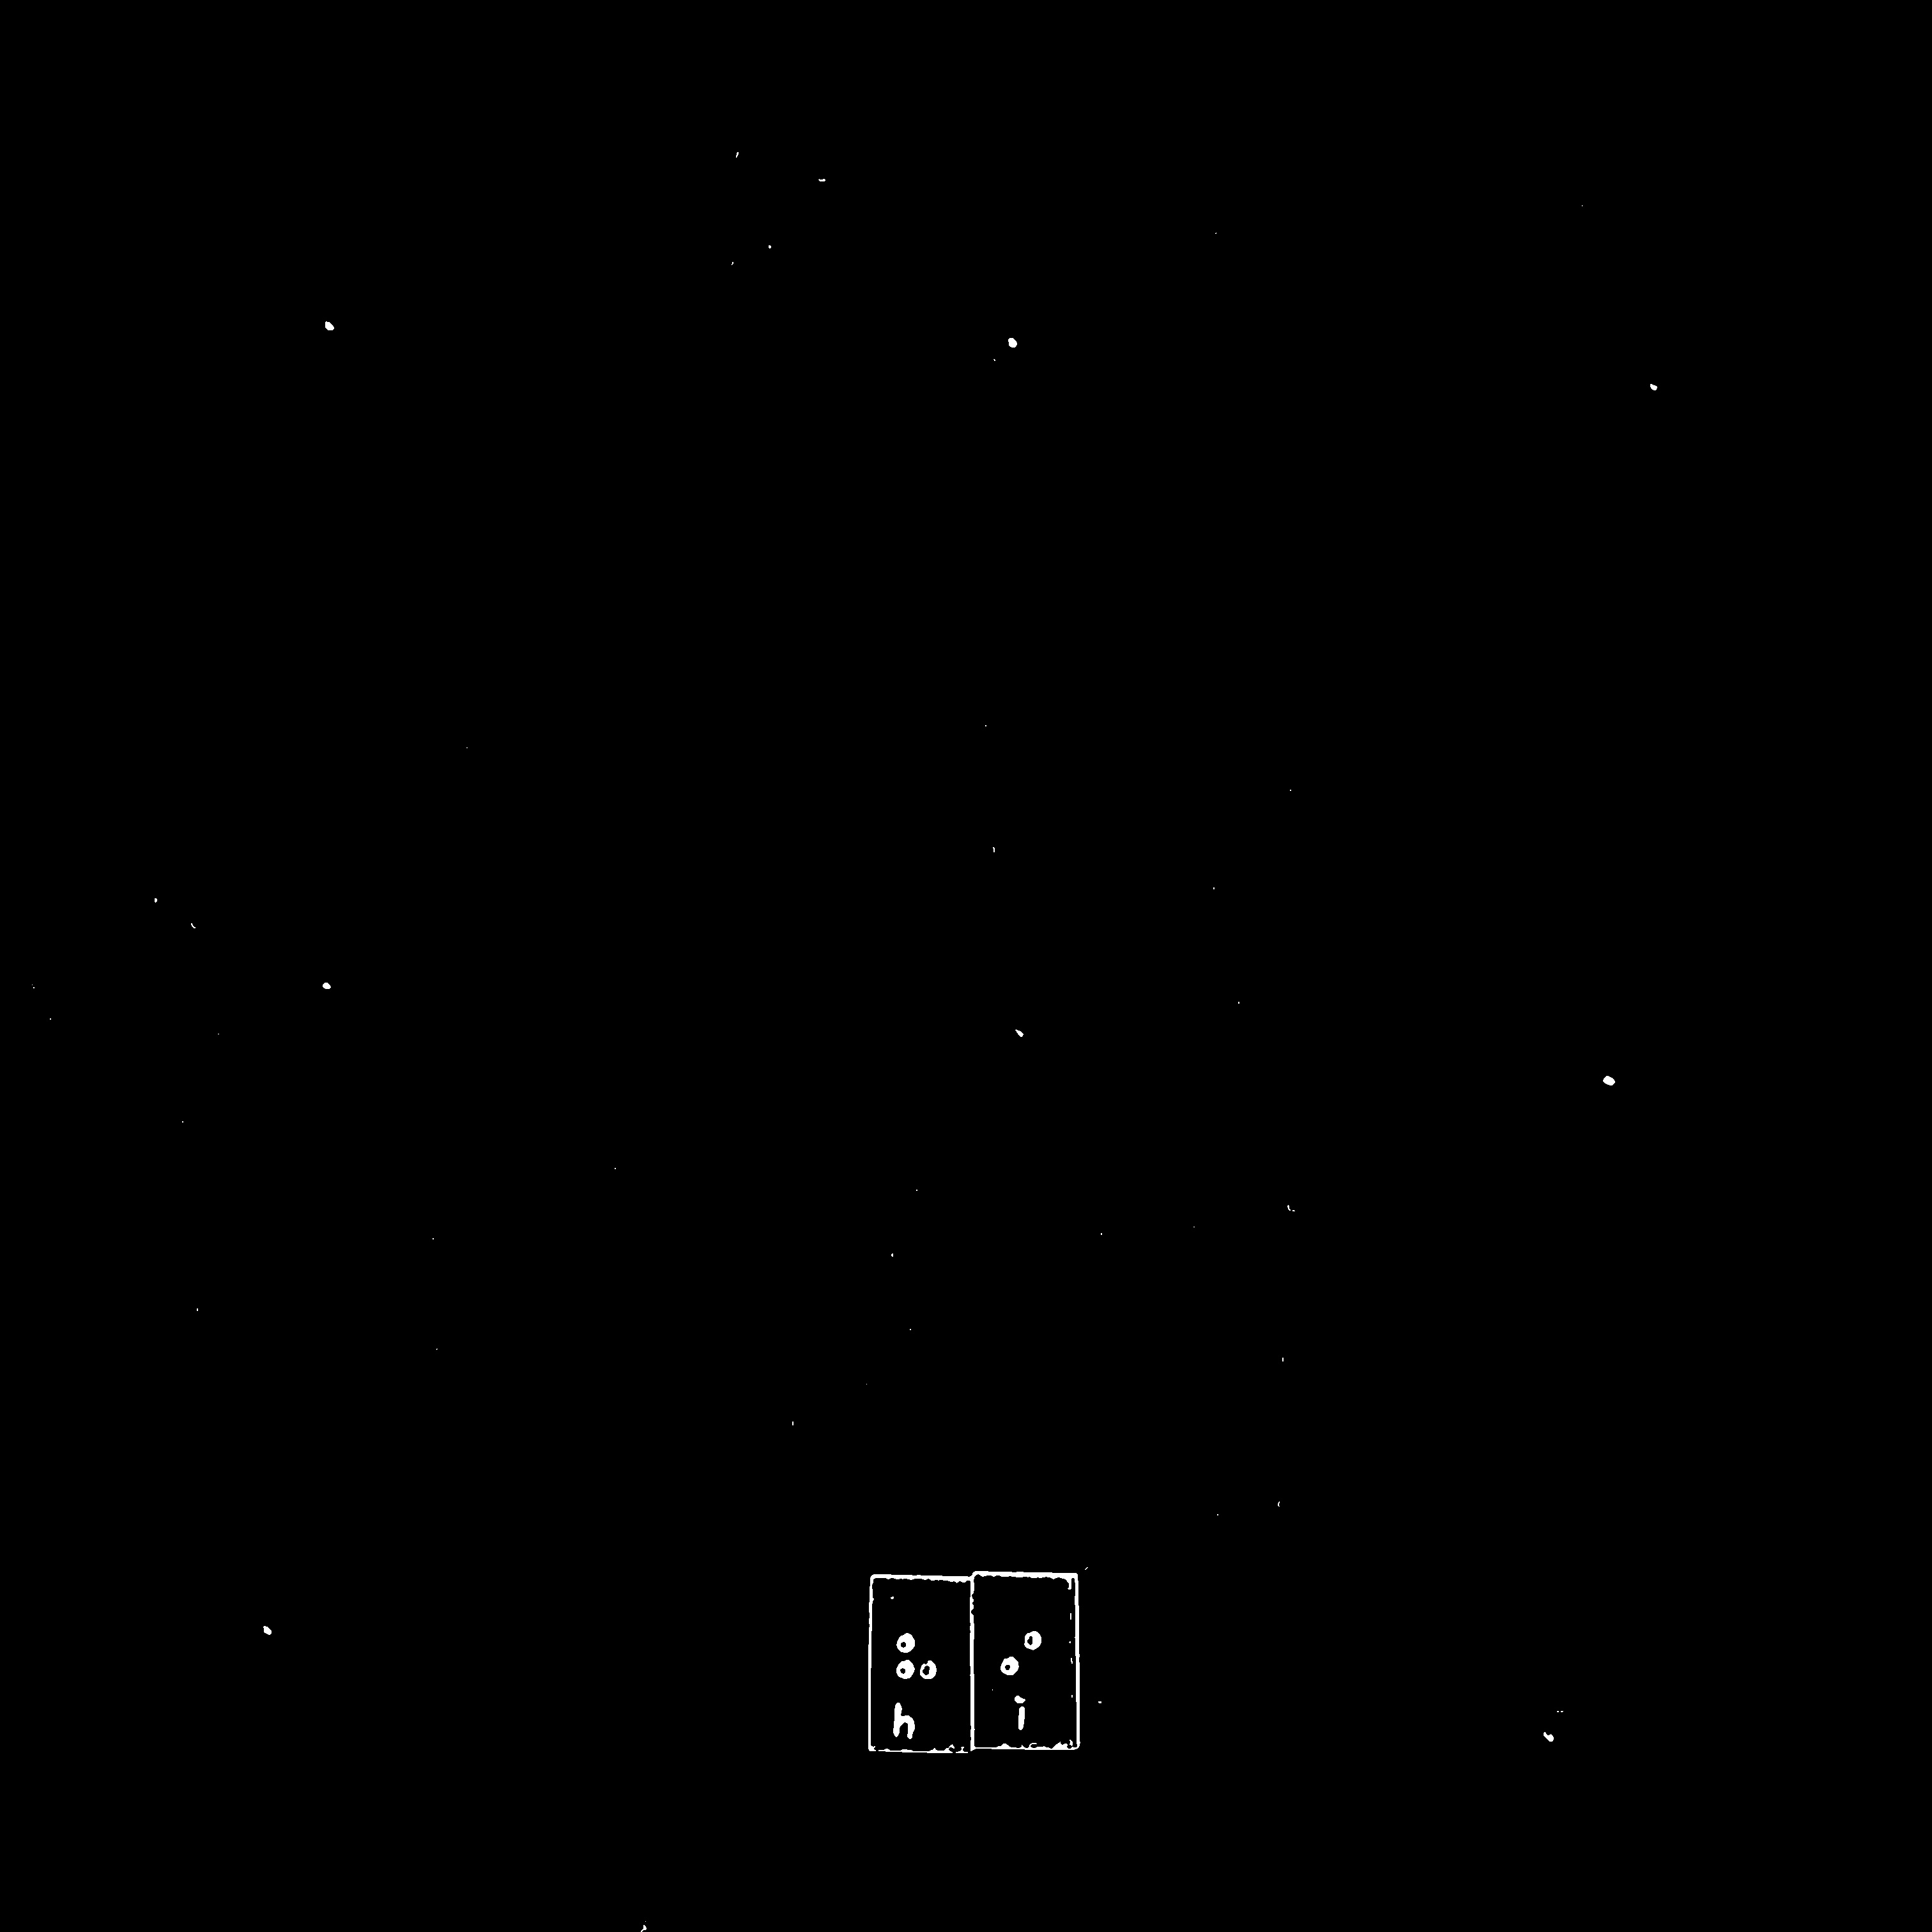h: (890, 1623, 949, 1721)
i: (997, 1623, 1053, 1713)
